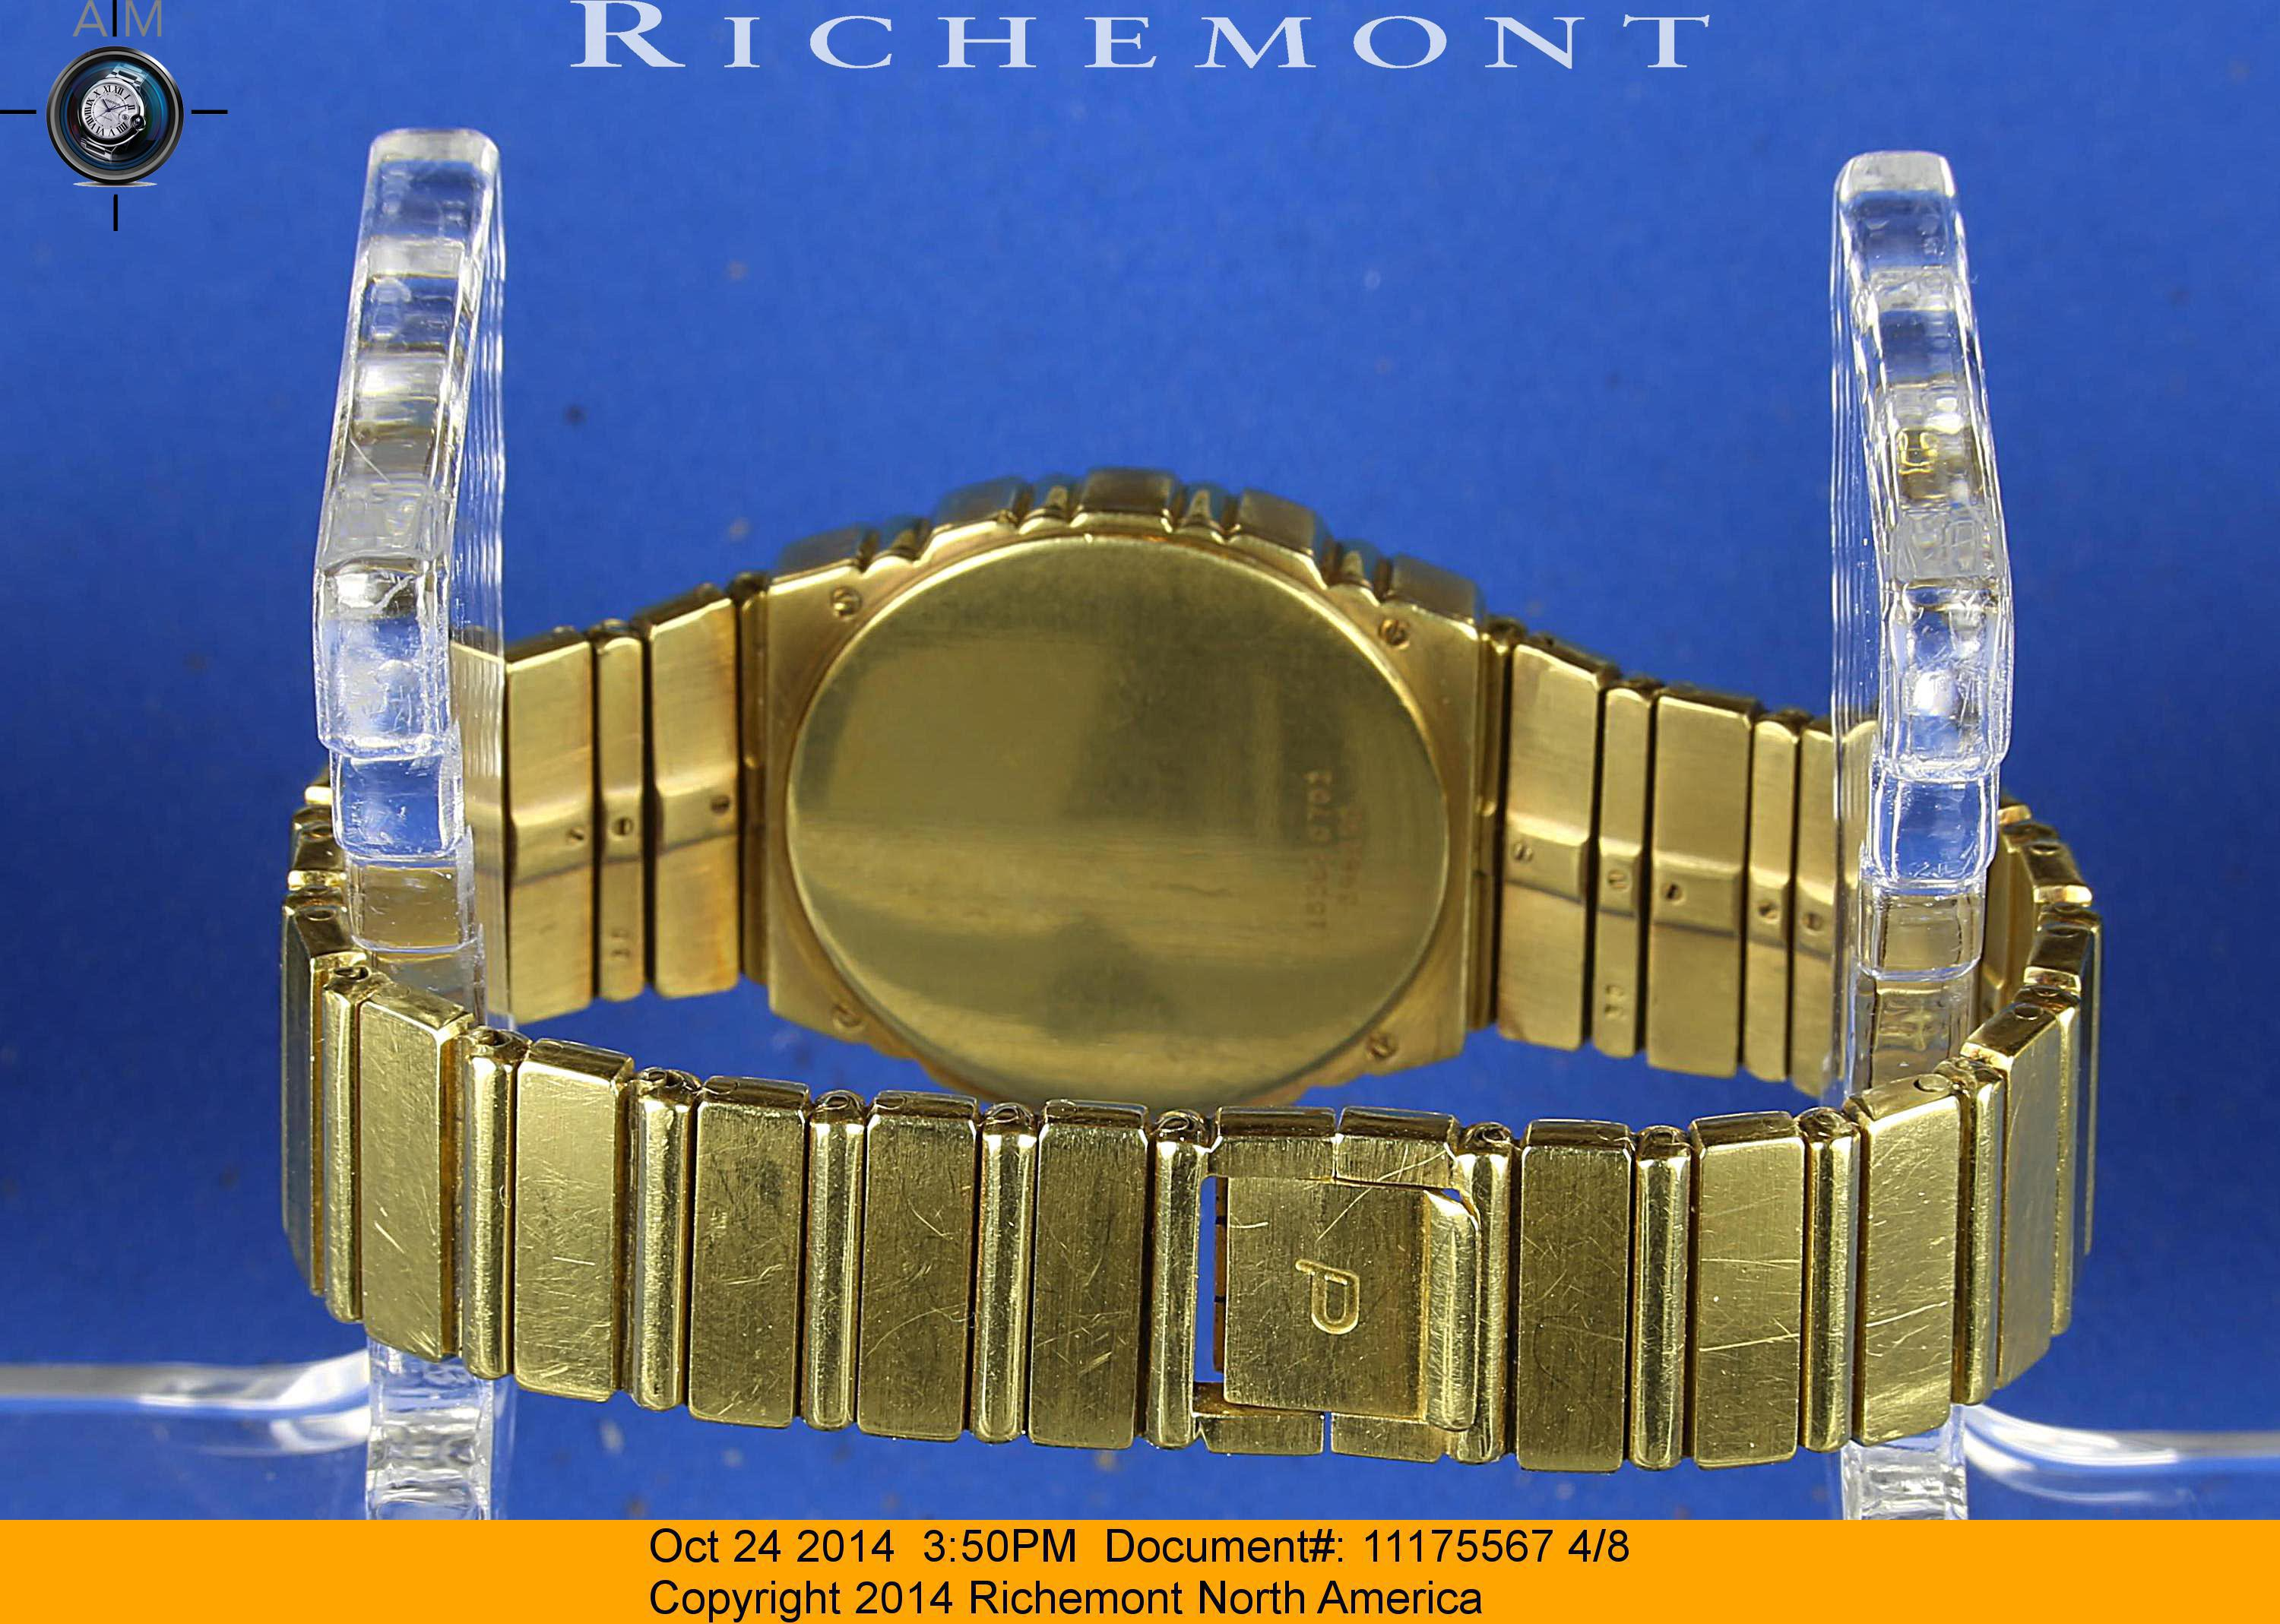Watch BackCase: (738, 476, 1485, 1095)
